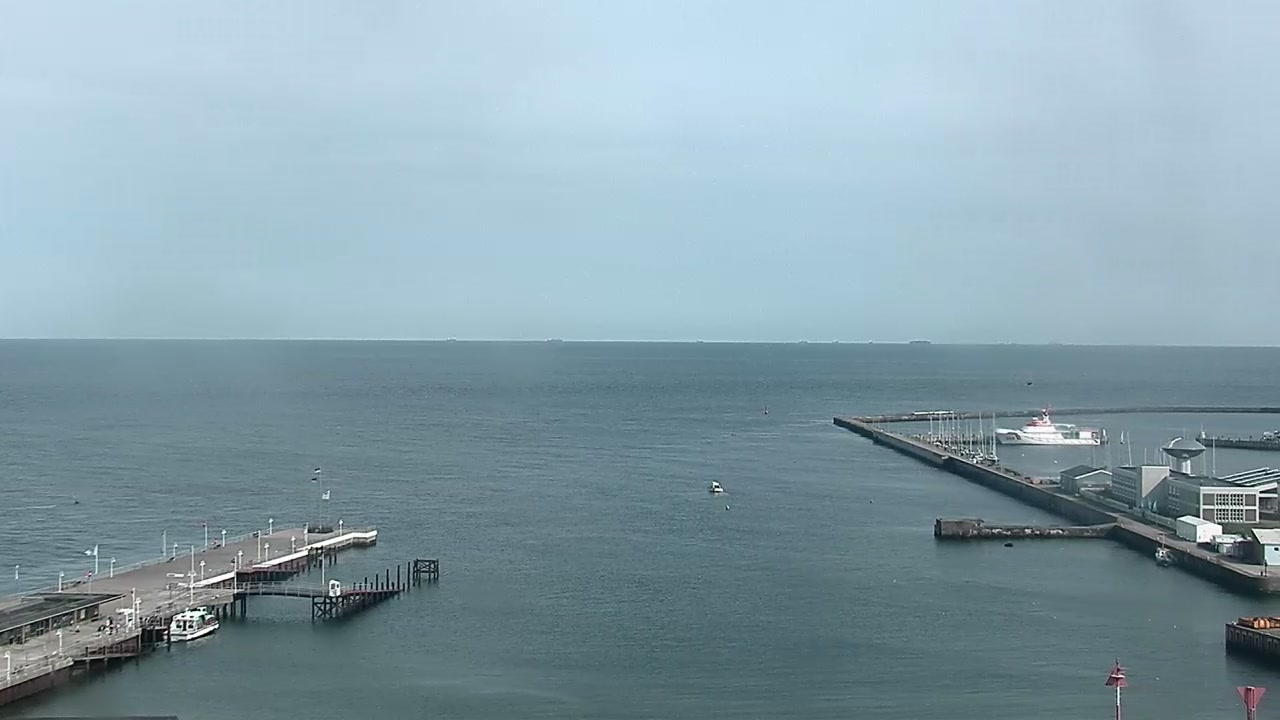human: (106, 616, 113, 632)
sea: (993, 406, 1101, 446), (158, 606, 219, 641), (973, 412, 990, 467), (985, 411, 999, 464), (1153, 544, 1178, 566), (961, 420, 977, 454), (707, 479, 724, 493), (1119, 430, 1126, 444)
